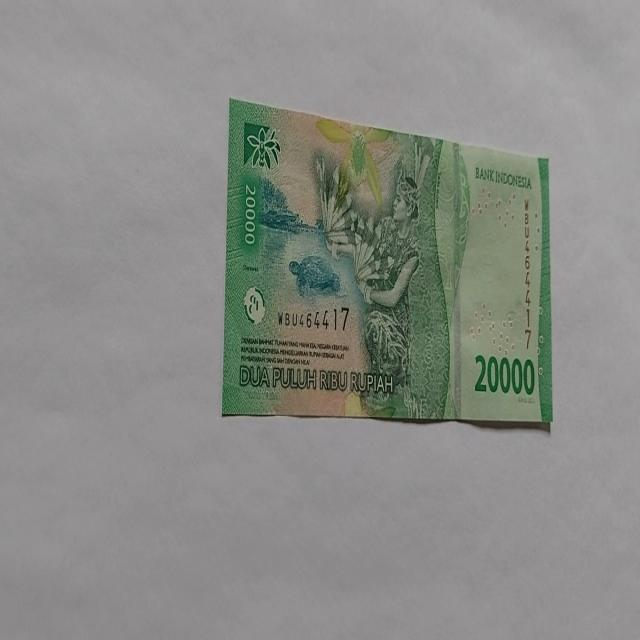dua puluh ribu rupiah: (222, 96, 552, 428)
